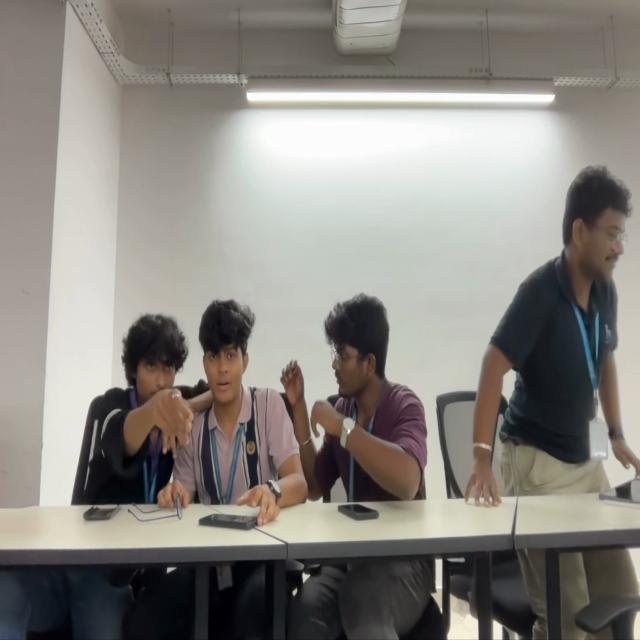Isolated: (465, 169, 640, 501)
socializing: (90, 292, 428, 511)
